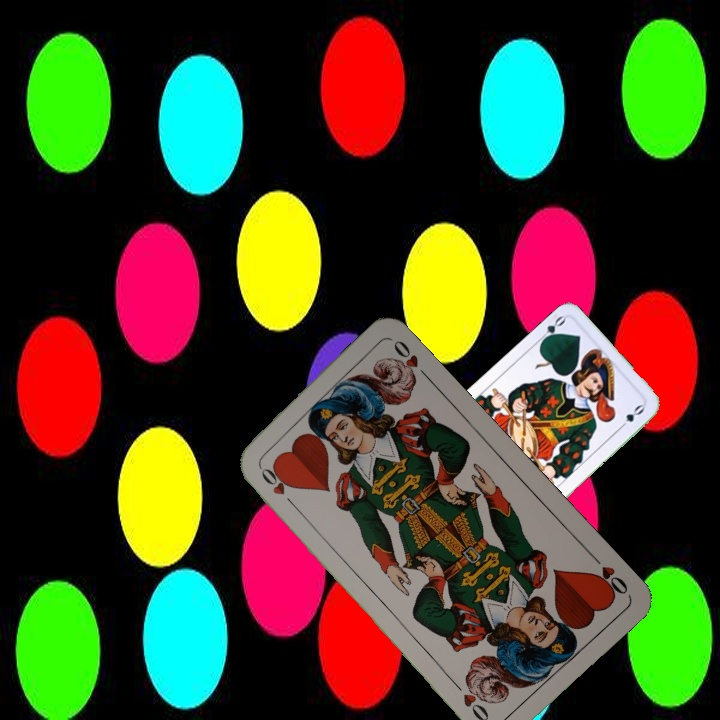GO: (533, 312, 568, 347)
HO: (586, 549, 631, 600), (254, 461, 299, 510)
